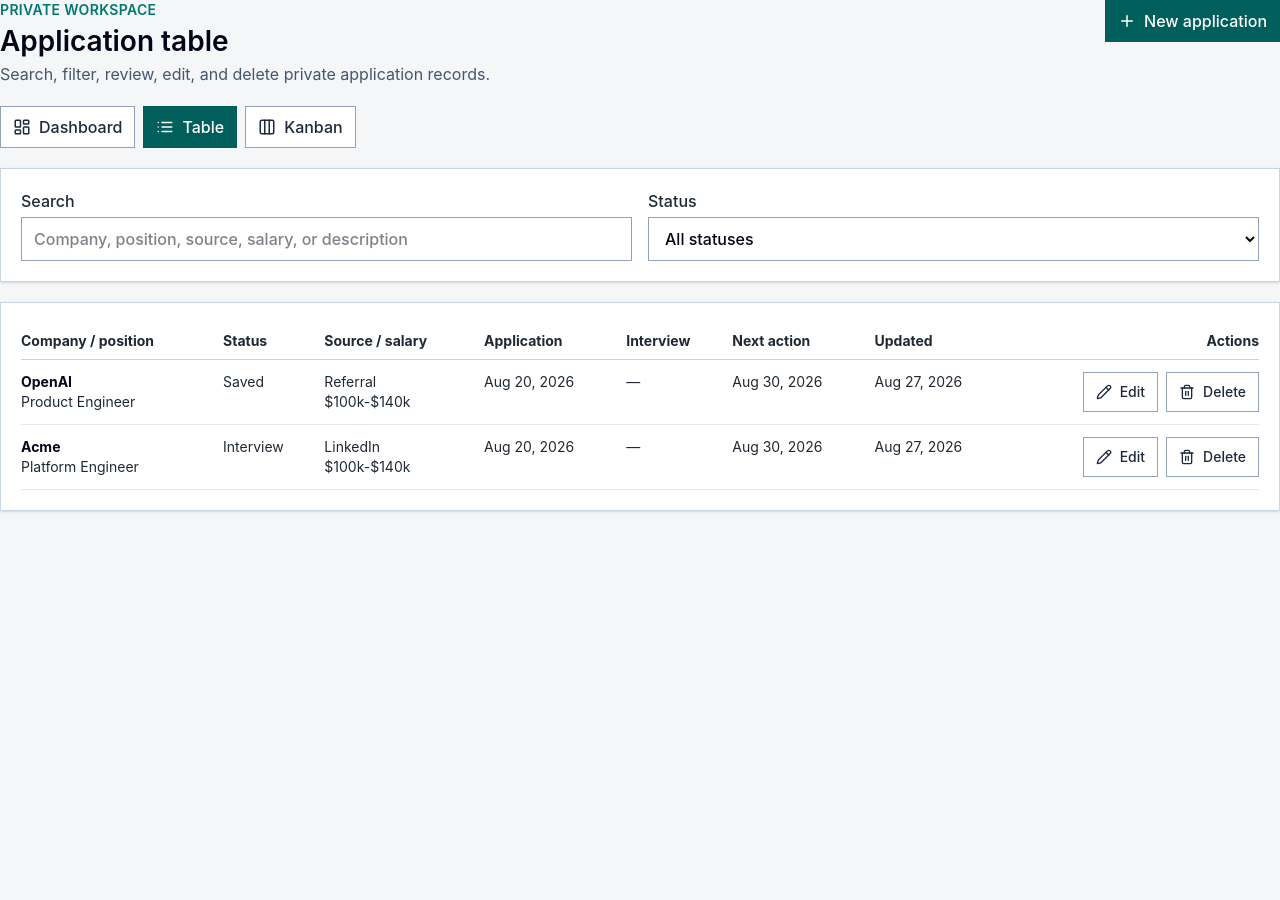
Scenario: job application table and Kanban › identifies permanent deletion and preserves the record and dialog on failure
Click the button with aria-label "Delete Product Engineer at OpenAI".
click(1213, 392)  # box 1166,372 -> 1259,412
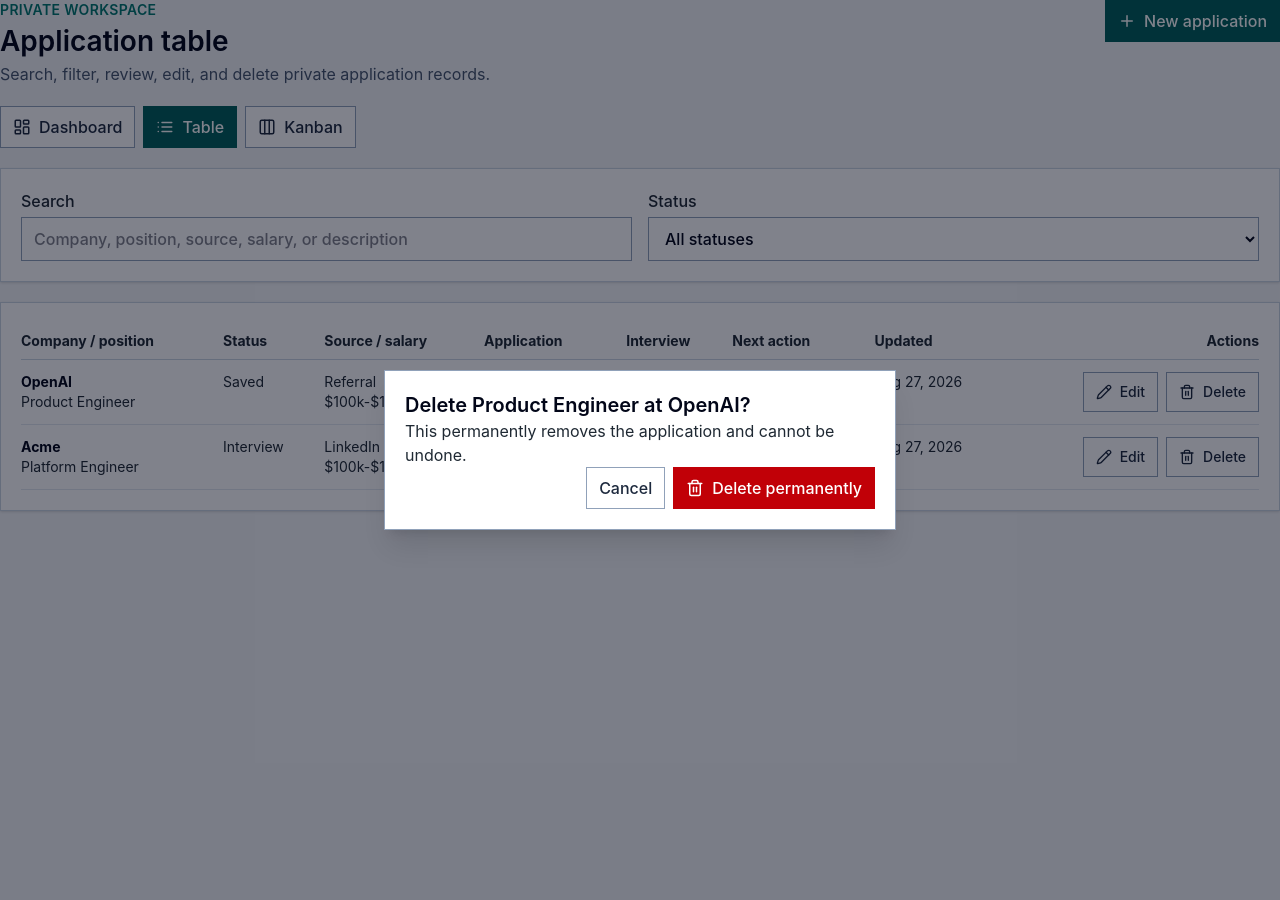
Result: the heading "Delete Product Engineer at OpenAI?" is shown at 405,393 -> 751,417
Click the button "Delete permanently".
click(774, 488)  # box 673,467 -> 875,509
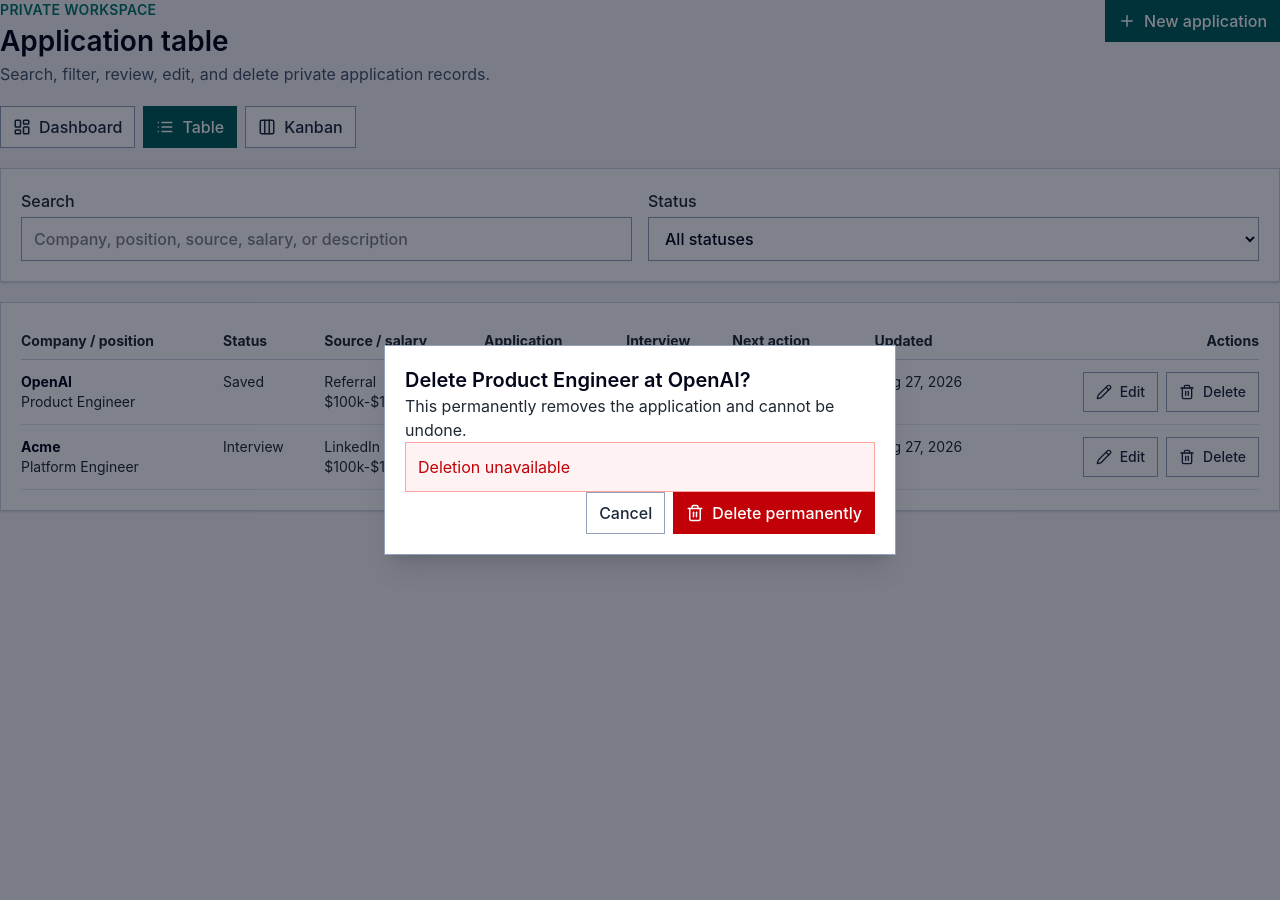
Expected: the table shows "OpenAI", 21,373 -> 72,390
Result: the dialog is shown
Result: the message reads "Deletion unavailable" at 418,457 -> 570,477
